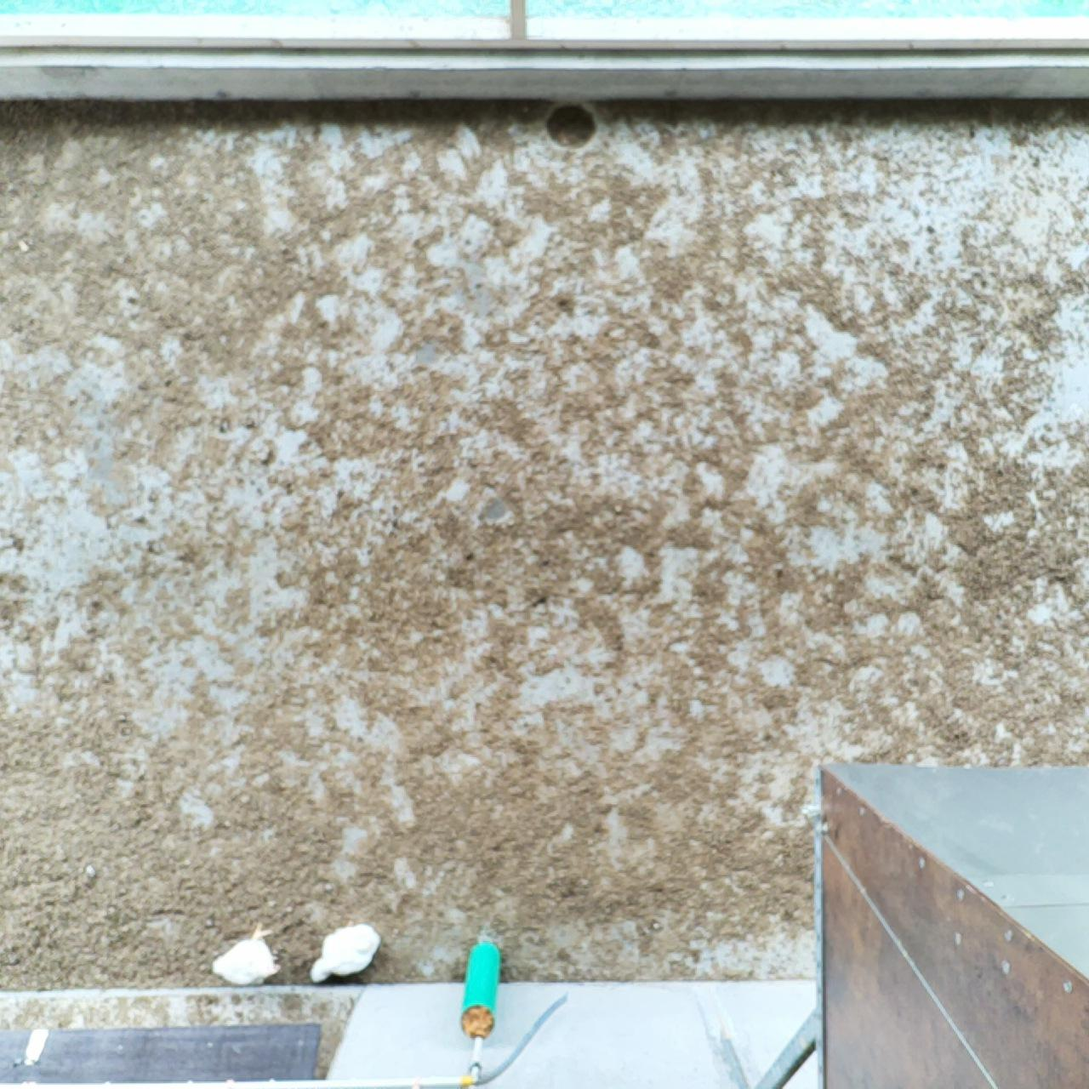chicken: (208, 916, 289, 990), (302, 915, 385, 984)
